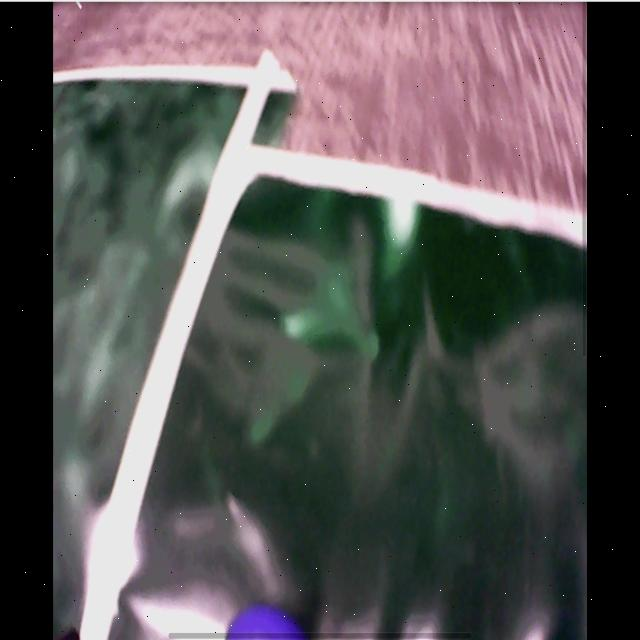ball: (226, 604, 303, 640)
